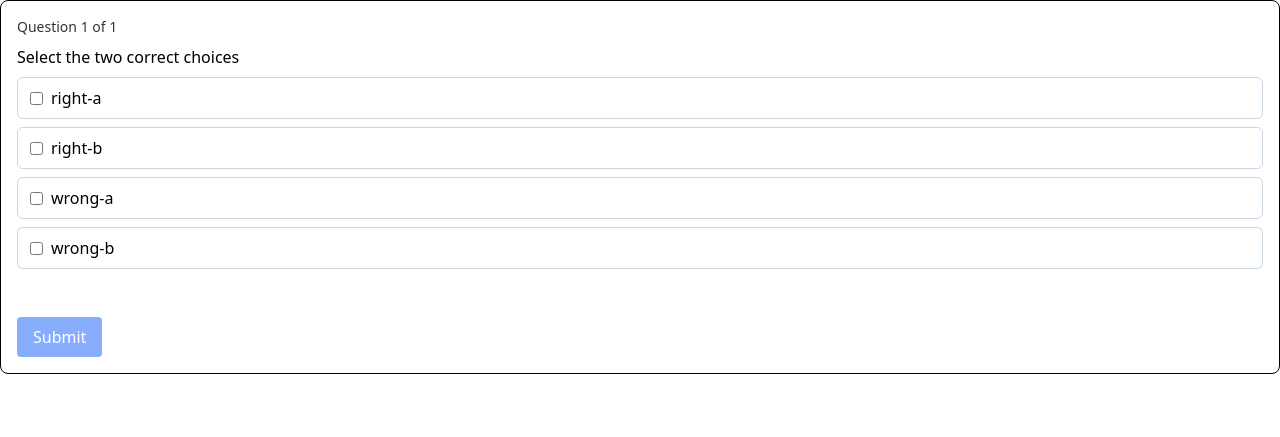
Test: multi partial credit (§13 roadmap D-023) › awards partial credit (0.5) and shows "Partially correct (50%)." when only one of two correct answers is picked
The image size is (1280, 437).
Click the checkbox labelled "right-a" at (36, 98), box [30,92,43,104]
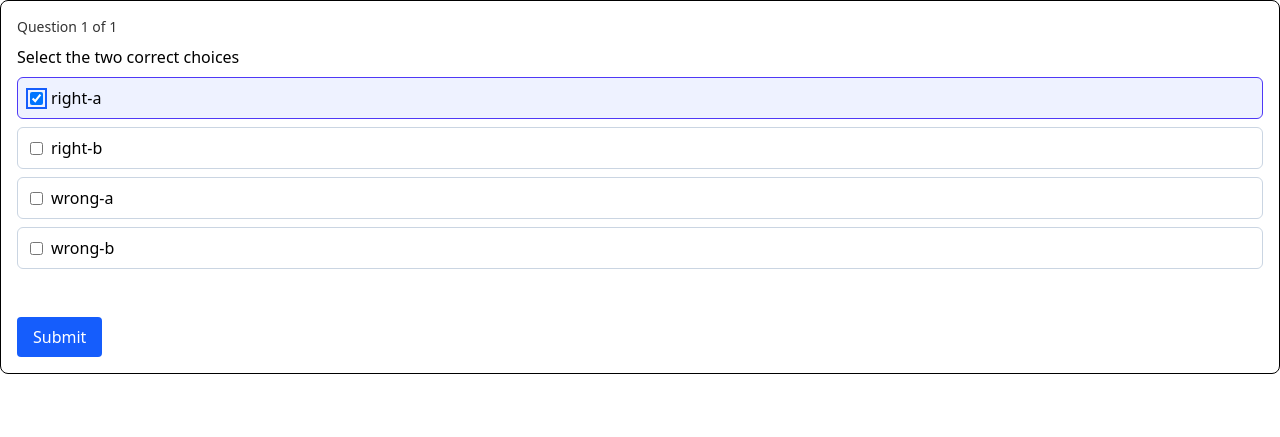
Click the button "Submit" at (60, 337), box [17,317,102,357]
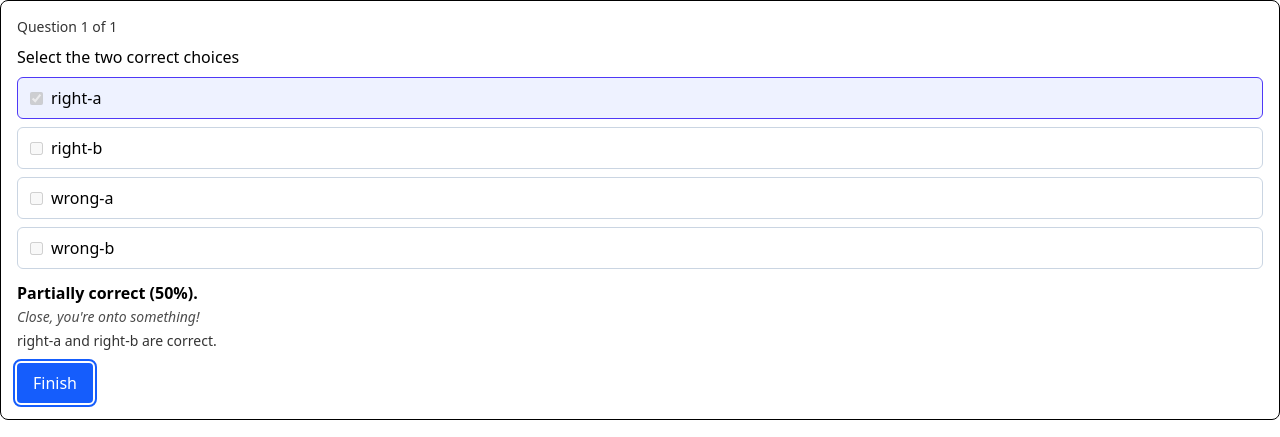
Expected: the text "Partially correct (50%)." is shown, [17,282,198,304]
Click the button "Finish" at (55, 383), box [17,363,93,403]
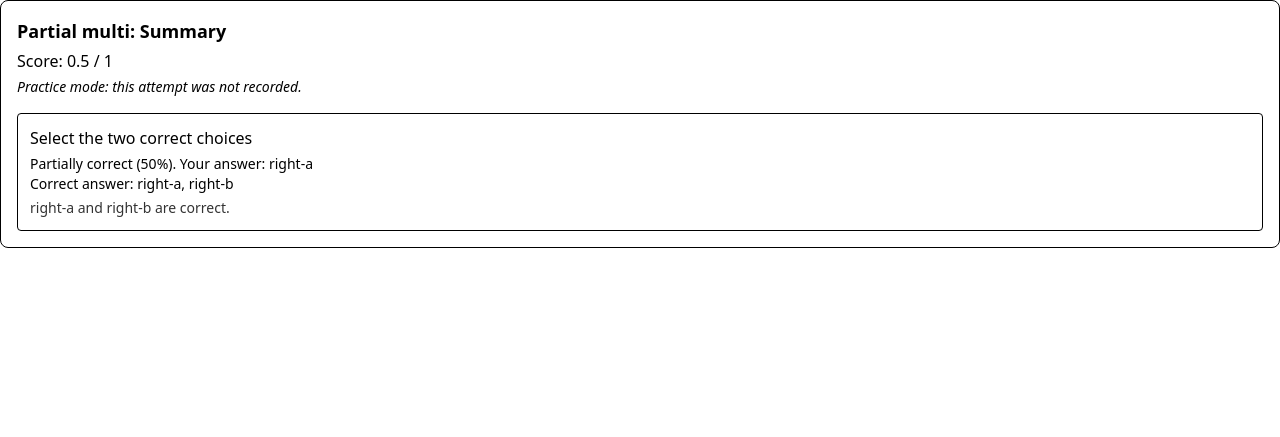
Expected: the text "Score: 0.5 / 1" is shown, [17,50,113,72]
Expected: the text "Partially correct (50%). Your answer: right-a" is shown, [30,154,313,173]
